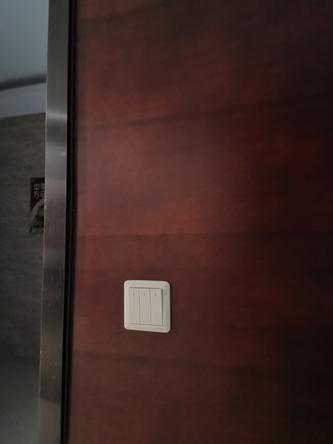switch: (134, 284, 154, 329), (147, 285, 167, 329), (125, 285, 142, 327)
